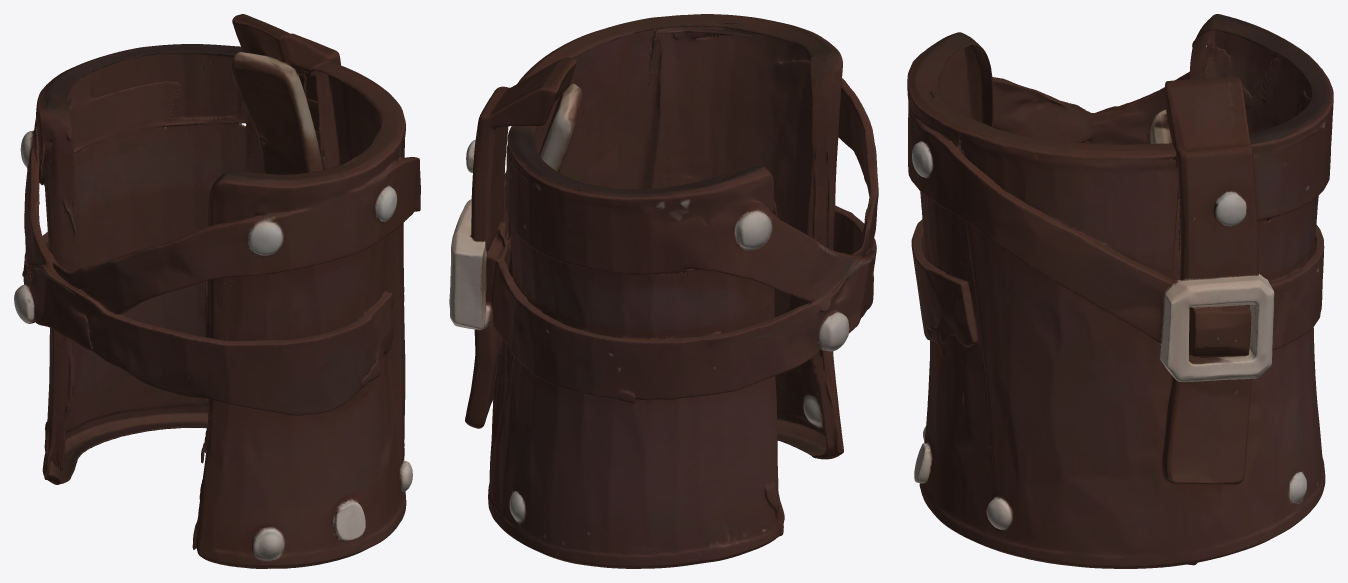
Rendered from gear_bracer.glb.
3 renders of one model, left to right at view 1: azimuth 30°, elevation 25°; view 2: azimuth 150°, elevation 25°; view 3: azimuth 270°, elevation 25°, orthographic. The views are drawn at different scales.
Parts seen in each view (by area): view 1: tripo_node_652cc53b-bf0c-442f-ada1-b27835e5bf67; view 2: tripo_node_652cc53b-bf0c-442f-ada1-b27835e5bf67; view 3: tripo_node_652cc53b-bf0c-442f-ada1-b27835e5bf67.
Boxes of the visible parts, bbox=[...] form: tripo_node_652cc53b-bf0c-442f-ada1-b27835e5bf67: bbox=[14, 14, 420, 568]; tripo_node_652cc53b-bf0c-442f-ada1-b27835e5bf67: bbox=[449, 14, 878, 568]; tripo_node_652cc53b-bf0c-442f-ada1-b27835e5bf67: bbox=[907, 14, 1333, 568].
Size of the model in its own units: 0.806 by 1 by 0.7818.
Materials: 1 (1 with a texture image).
